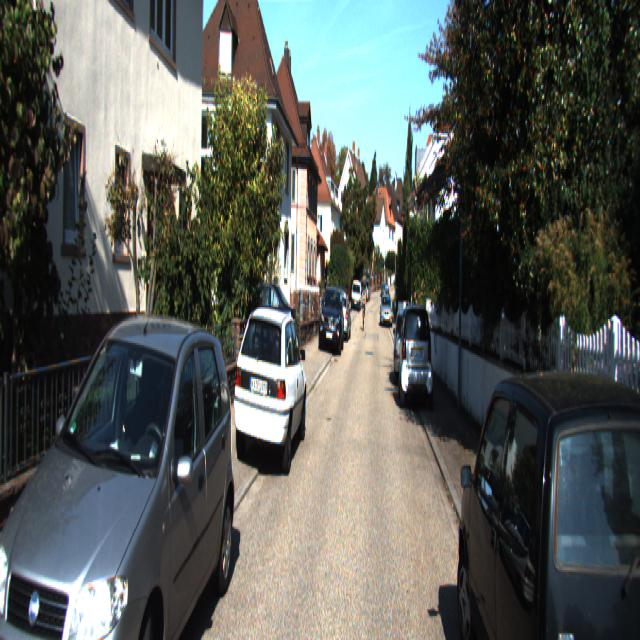Car: (0, 301, 241, 638), (455, 348, 639, 638), (232, 302, 310, 478), (398, 300, 435, 413), (395, 309, 423, 386), (319, 288, 347, 358)
